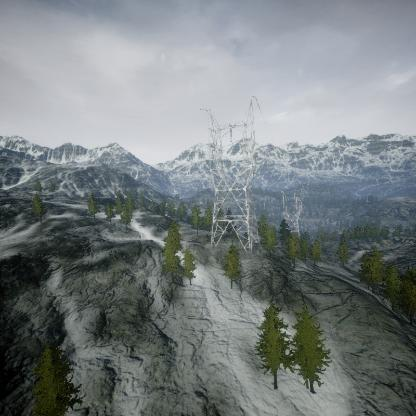tower: (195, 93, 263, 256), (280, 190, 303, 239)
